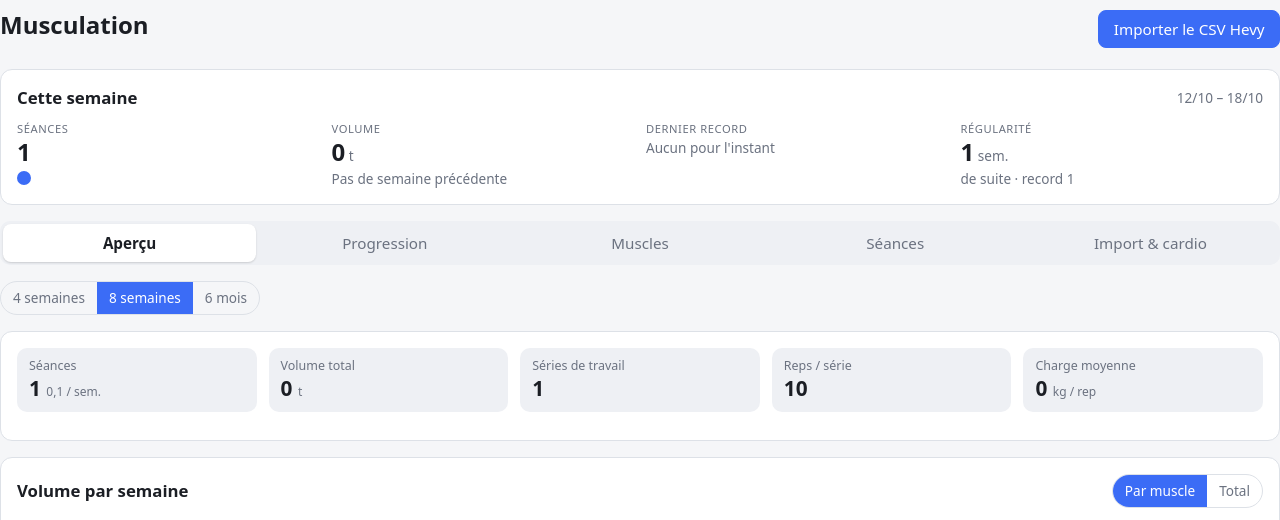
it: Strength — avec séances › gère un exercice au poids du corps et une seule séance
Click the tab "Progression".
click(385, 243)  # box [258,224,511,262]
(page scrolled)
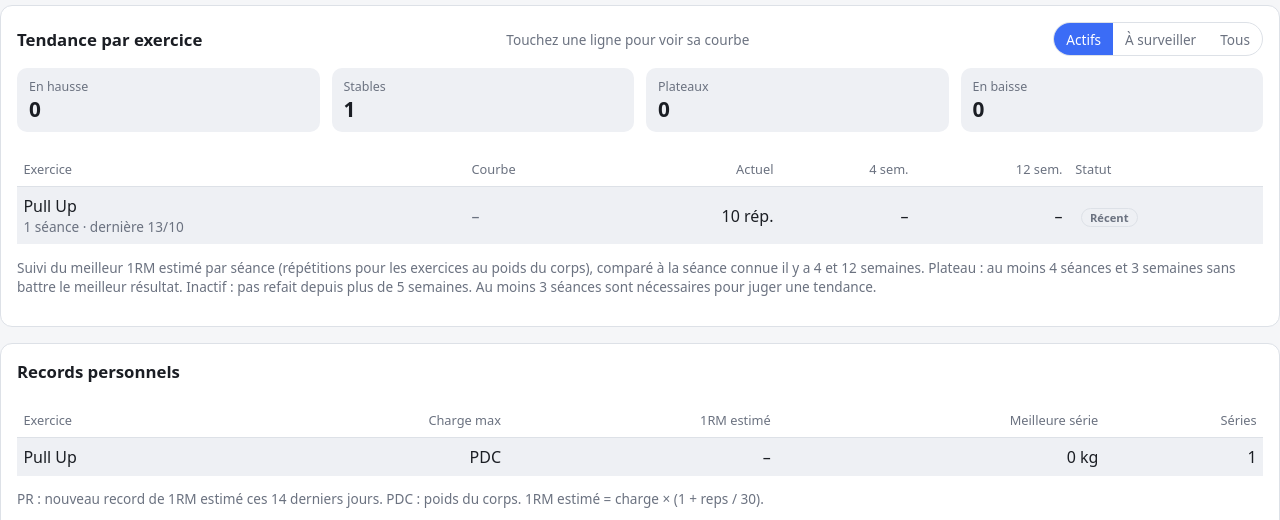
Expected: the text "PDC" is shown, [231,437,507,476]
